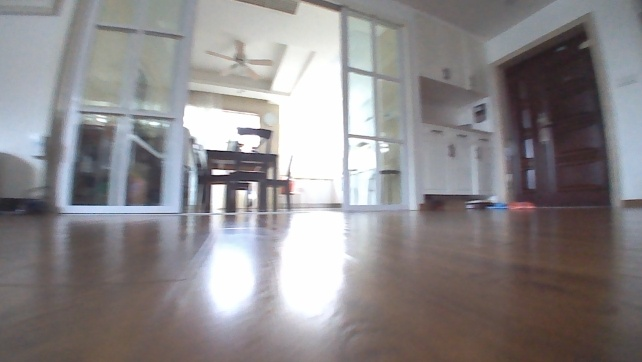dining_table: (195, 124, 294, 214)
door_anno: (490, 8, 618, 211)
